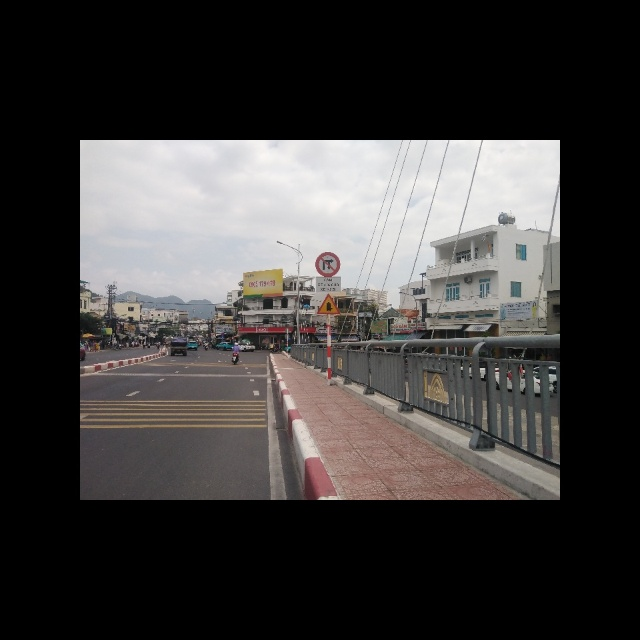Cấm quay đầu và rẽ phải: (315, 252, 340, 276)
Giao nhau với đường không ưu tiên: (316, 294, 339, 316)
